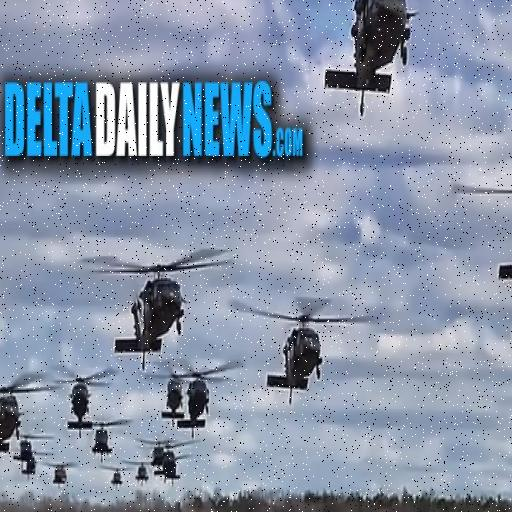helicopter: (282, 1, 494, 108), (236, 298, 375, 400), (84, 258, 215, 363), (444, 166, 512, 289), (1, 382, 37, 460), (65, 369, 102, 438), (159, 366, 187, 429), (193, 370, 218, 434), (21, 437, 55, 484), (43, 465, 82, 499), (91, 419, 123, 458), (164, 448, 193, 488), (152, 438, 175, 472), (133, 453, 157, 485), (113, 464, 124, 491)
